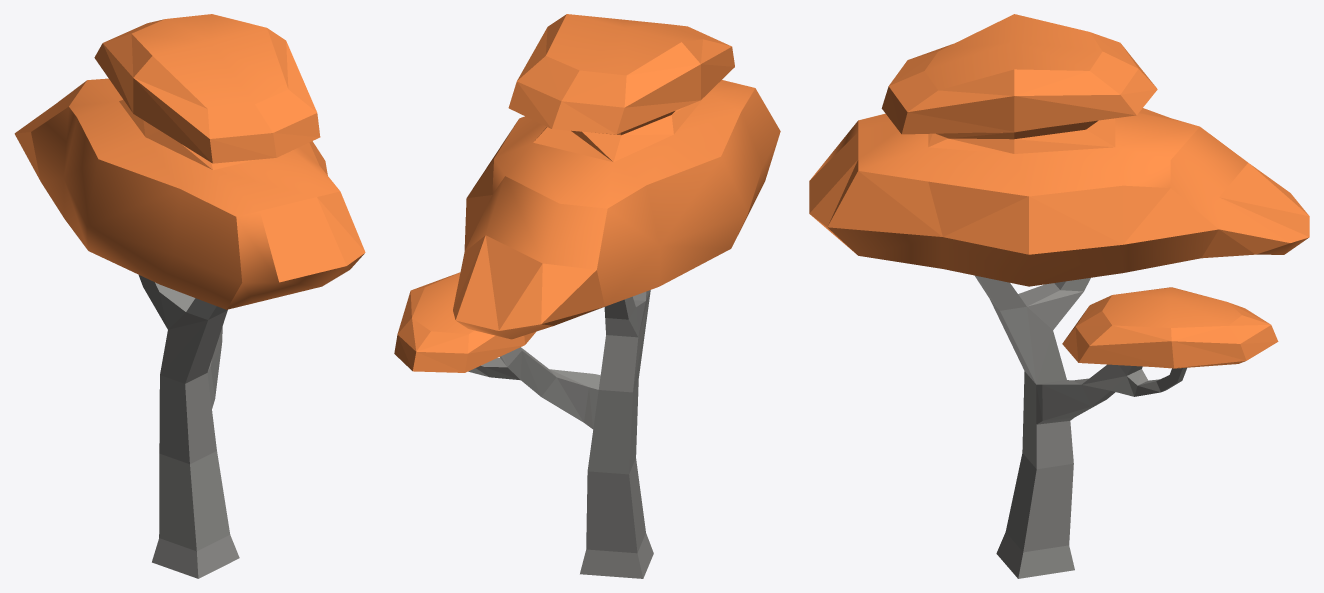
The model's file is TelTree1.fbx.
3 views of the same model, side by side, from view 1: azimuth 30°, elevation 25°; view 2: azimuth 150°, elevation 25°; view 3: azimuth 270°, elevation 25° (orthographic).
Visible parts, largest first — view 1: tree_005; view 2: tree_005; view 3: tree_005.
Boxes of the visible parts, <box> form: tree_005: <box>14,14,365,578</box>; tree_005: <box>394,14,780,578</box>; tree_005: <box>809,14,1309,578</box>.
Bounding box in the file's own units: 995 × 1916 × 1666.
